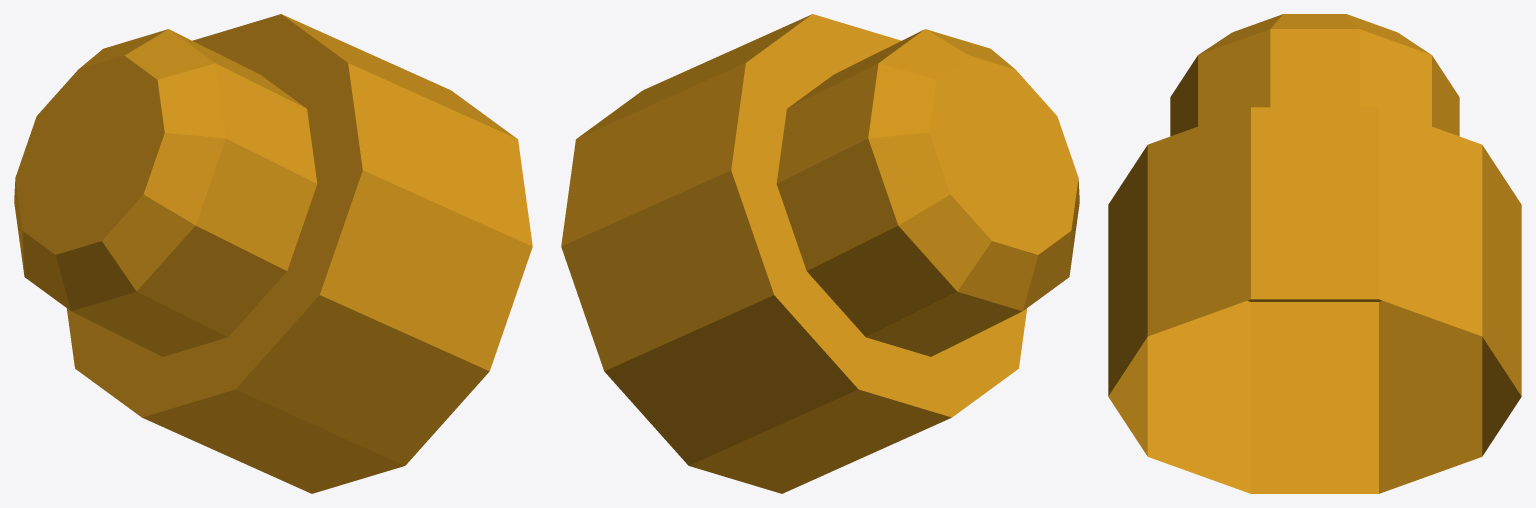
File: Dropship_03_Detail_01_Yellow.fbx
3 views of the same model, side by side, from view 1: azimuth 30°, elevation 25°; view 2: azimuth 150°, elevation 25°; view 3: azimuth 270°, elevation 25° (orthographic). The views are drawn at different scales.
Visible parts, largest first — view 1: Dropship_03_Detail_01_Yellow; view 2: Dropship_03_Detail_01_Yellow; view 3: Dropship_03_Detail_01_Yellow.
Part boxes in pixels (bbox=[...]): Dropship_03_Detail_01_Yellow: bbox=[14, 14, 532, 493]; Dropship_03_Detail_01_Yellow: bbox=[561, 14, 1079, 493]; Dropship_03_Detail_01_Yellow: bbox=[1108, 14, 1521, 493].
Bounding box in the file's own units: 33.83 × 32.25 × 28.46.
1 material, 1 textured.
